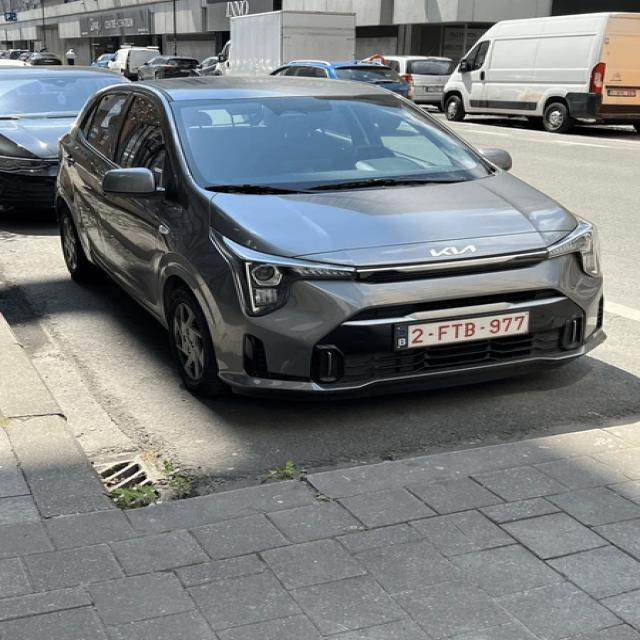kia: (428, 241, 480, 261)
